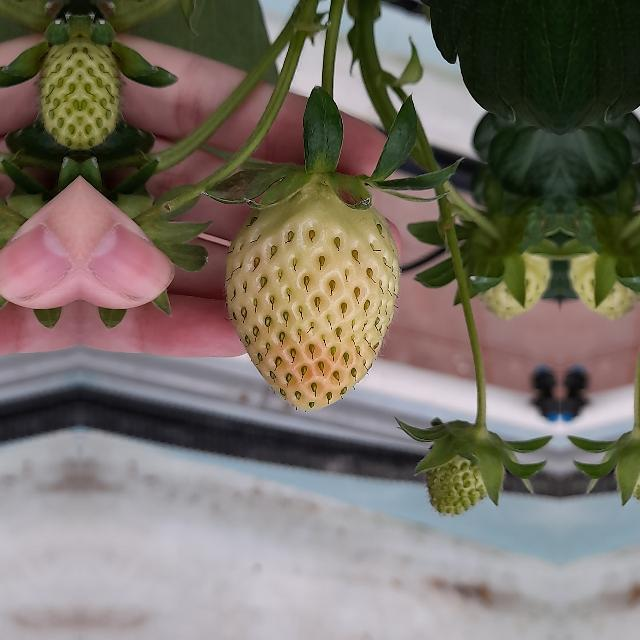Health_25: (428, 425, 499, 517), (620, 425, 640, 517)
Health_50: (224, 181, 400, 411)
